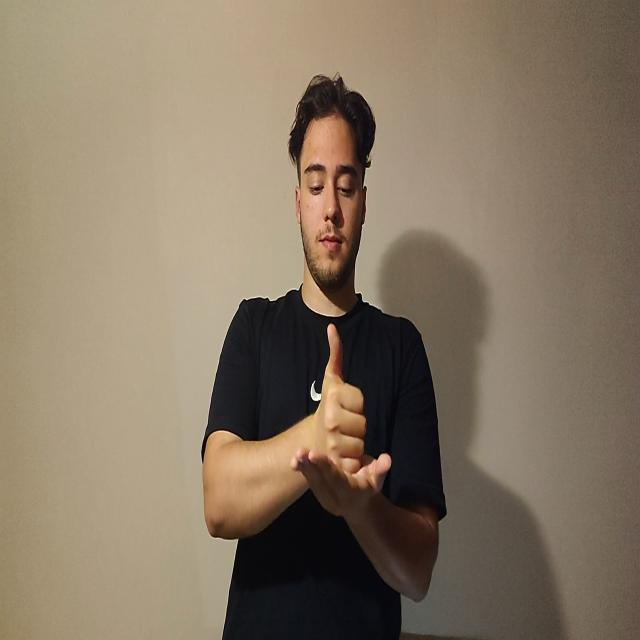help: (294, 323, 393, 526)
